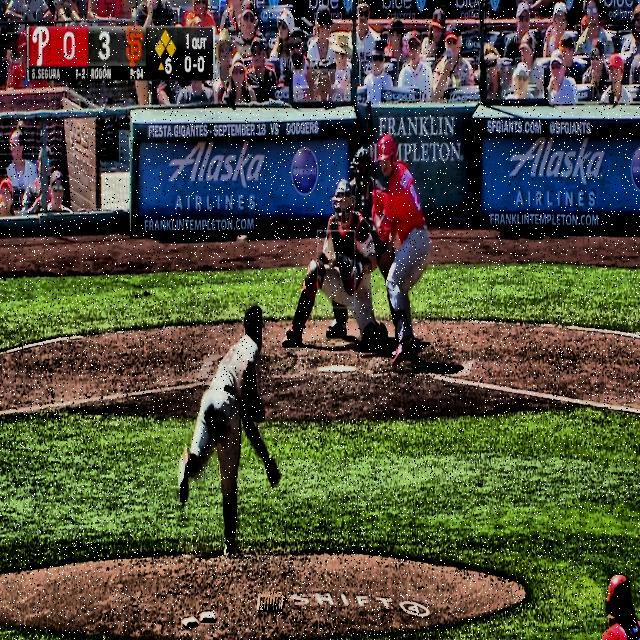baseball: (236, 234, 249, 247)
